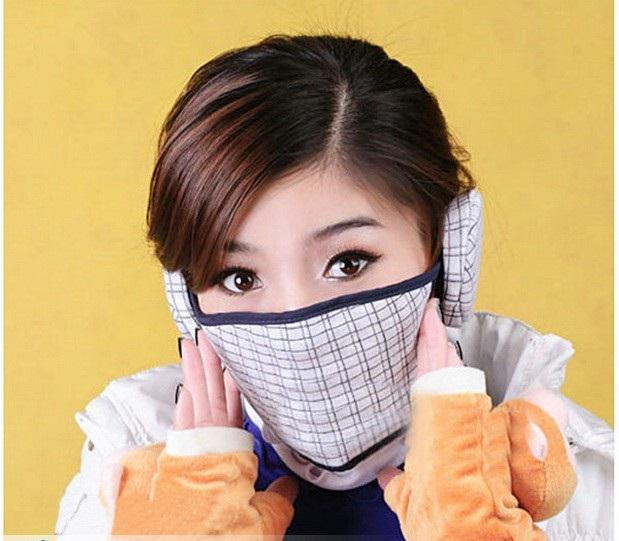OK: (199, 212, 440, 453)
